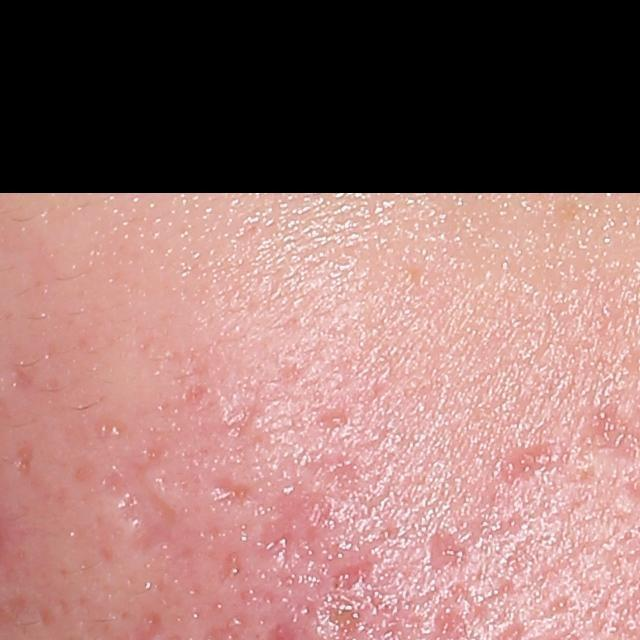atrophic_scar: (251, 438, 353, 584), (96, 433, 198, 573), (205, 356, 314, 460), (491, 438, 570, 494), (199, 472, 265, 509), (427, 523, 471, 577), (315, 402, 352, 429), (10, 438, 34, 478)
